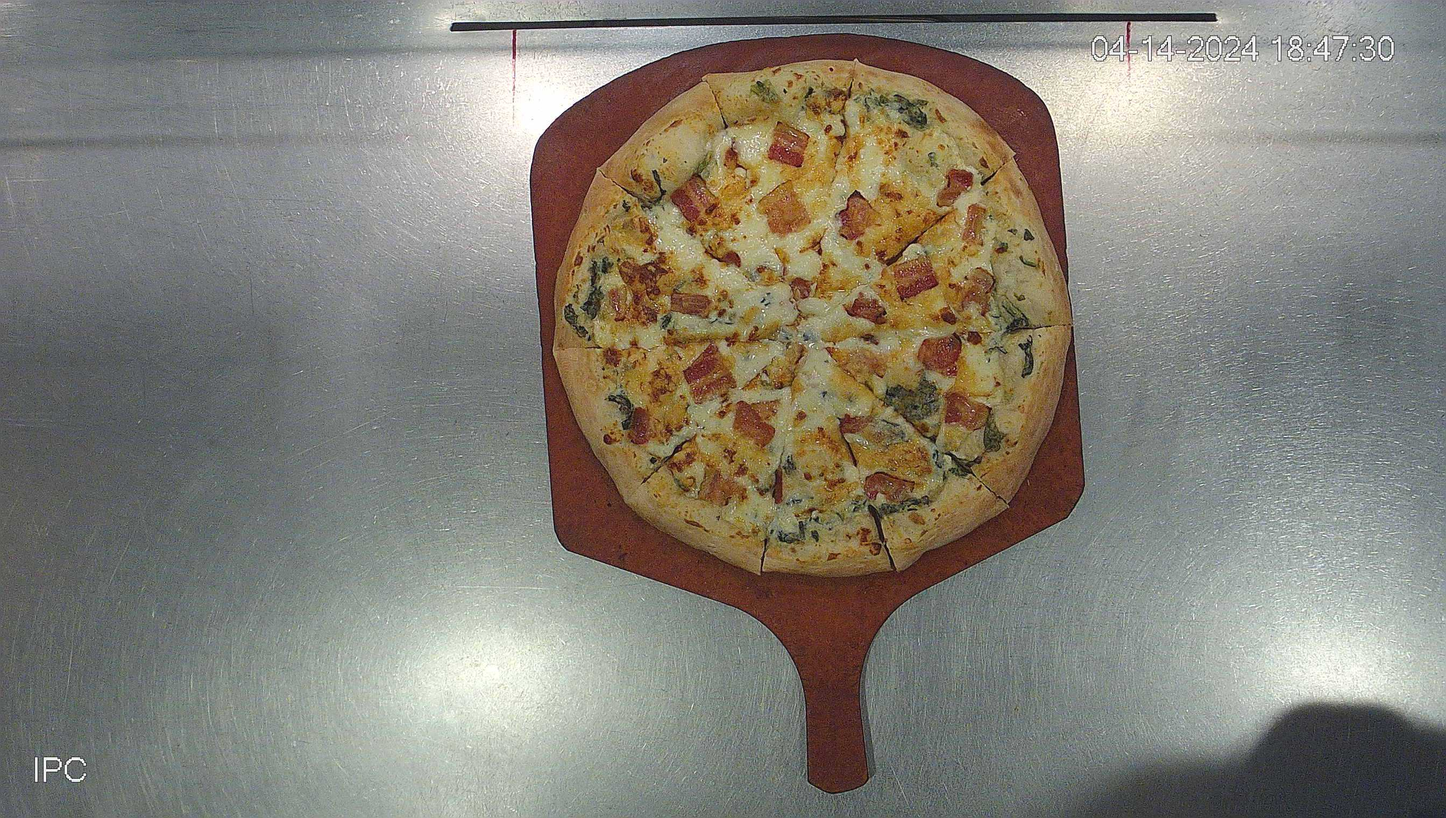pepporoni: (552, 59, 1071, 583)
